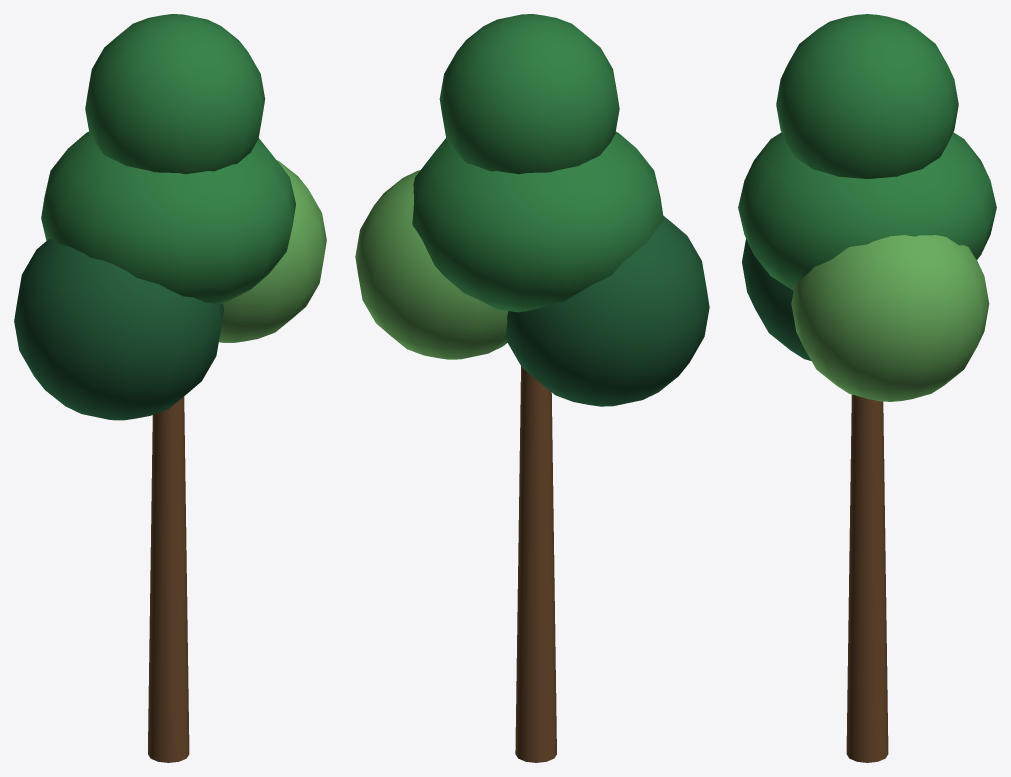
3 views of the same model, side by side, from view 1: azimuth 30°, elevation 25°; view 2: azimuth 150°, elevation 25°; view 3: azimuth 270°, elevation 25° (orthographic).
Visible parts, largest first — view 1: small-ornamental-tree; view 2: small-ornamental-tree; view 3: small-ornamental-tree.
Boxes of the visible parts, <box> form: small-ornamental-tree: <box>14,14,326,762</box>; small-ornamental-tree: <box>355,14,709,762</box>; small-ornamental-tree: <box>738,14,996,762</box>.
Size of the model in its own units: 0.94 by 2.13 by 0.68.
